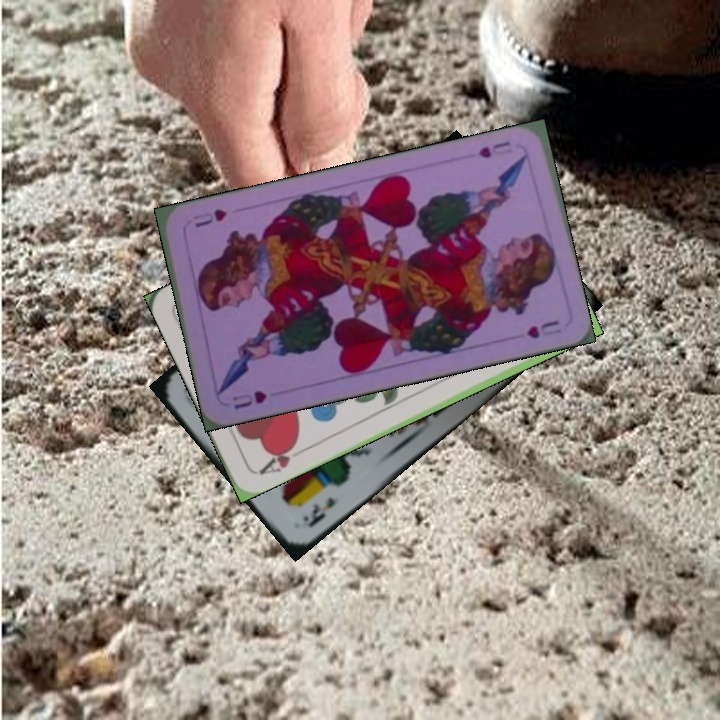EK: (298, 493, 338, 530)
HA: (255, 438, 300, 477)
HU: (230, 386, 269, 413), (474, 137, 515, 161)
